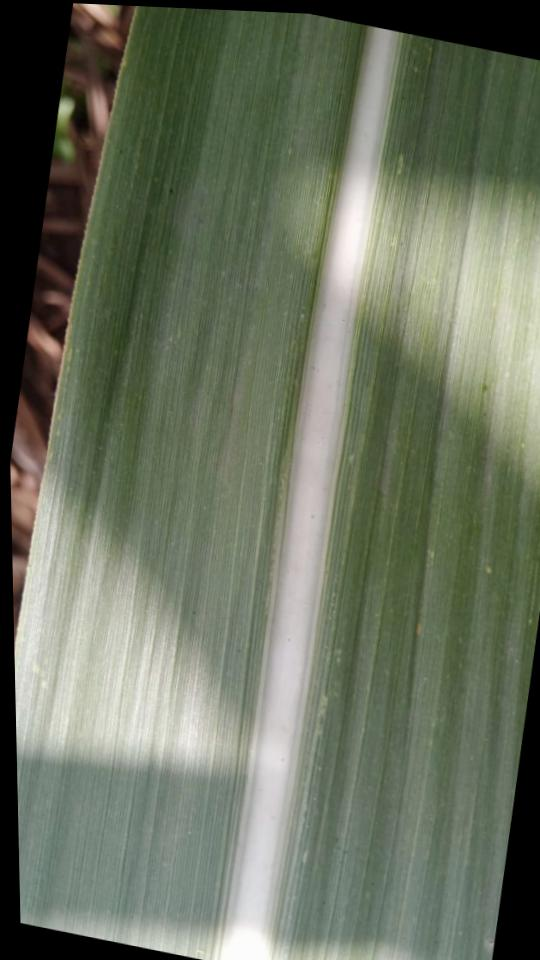Healthy: (15, 6, 540, 960)
